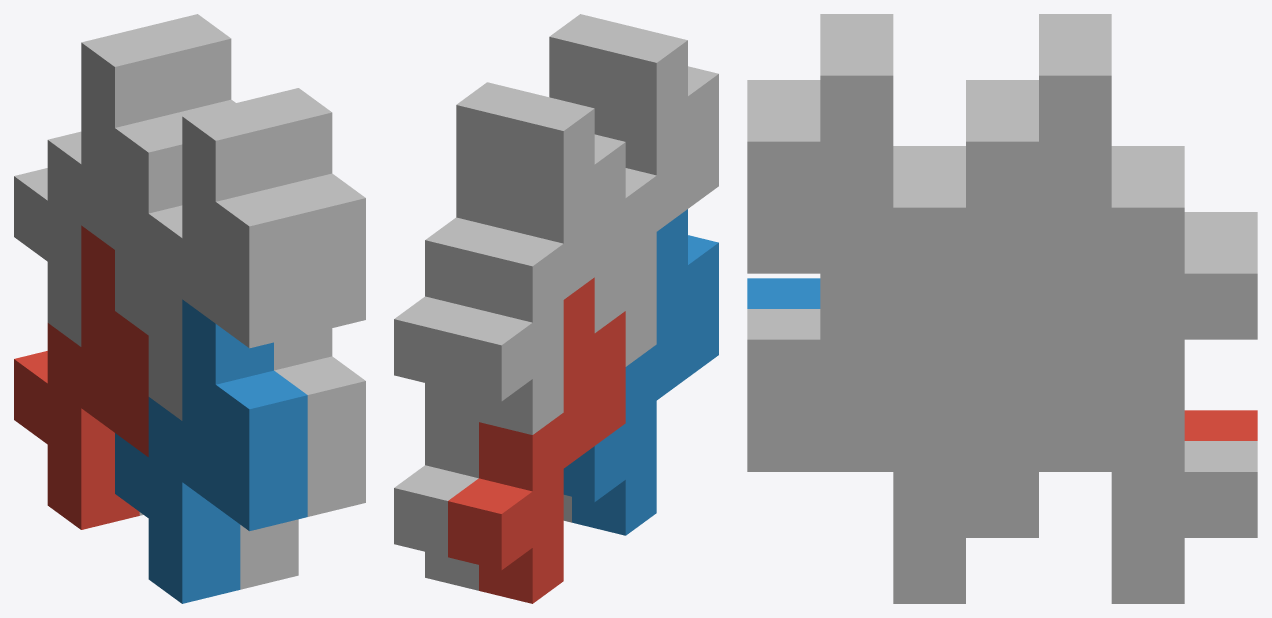
The model's file is tiling.obj.
3 views of the same model, side by side, from view 1: azimuth 30°, elevation 25°; view 2: azimuth 150°, elevation 25°; view 3: azimuth 270°, elevation 25° (orthographic). The views are drawn at different scales.
Parts seen in each view (by area): view 1: copy_1_domain_2, copy_1_domain_4, copy_1_domain_3, copy_1_domain_1, copy_1_domain_8, copy_1_domain_6, copy_1_domain_7; view 2: copy_1_domain_3, copy_1_domain_1, copy_1_domain_4, copy_1_domain_2, copy_1_domain_7, copy_1_domain_5, copy_1_domain_8; view 3: copy_1_domain_7, copy_1_domain_8, copy_1_domain_5, copy_1_domain_6, copy_1_domain_3, copy_1_domain_4, copy_1_domain_1, copy_1_domain_2.
Part boxes in pixels (x1,y1,x2,y2): copy_1_domain_2: [115, 299, 307, 603]; copy_1_domain_4: [115, 102, 307, 420]; copy_1_domain_3: [14, 28, 182, 346]; copy_1_domain_1: [14, 225, 148, 529]; copy_1_domain_8: [241, 88, 365, 333]; copy_1_domain_6: [240, 328, 365, 589]; copy_1_domain_7: [140, 14, 235, 119]; copy_1_domain_3: [448, 95, 625, 434]; copy_1_domain_1: [448, 277, 625, 603]; copy_1_domain_4: [594, 27, 718, 366]; copy_1_domain_2: [563, 209, 718, 535]; copy_1_domain_7: [394, 82, 540, 421]; copy_1_domain_5: [394, 409, 478, 590]; copy_1_domain_8: [549, 14, 633, 136]; copy_1_domain_7: [966, 44, 1257, 405]; copy_1_domain_8: [747, 44, 1038, 405]; copy_1_domain_5: [966, 273, 1257, 603]; copy_1_domain_6: [747, 273, 1038, 603]; copy_1_domain_3: [966, 14, 1257, 242]; copy_1_domain_4: [747, 14, 965, 176]; copy_1_domain_1: [1184, 410, 1257, 440]; copy_1_domain_2: [747, 278, 820, 308].
Size of the model in its own units: 2 by 8 by 7.
